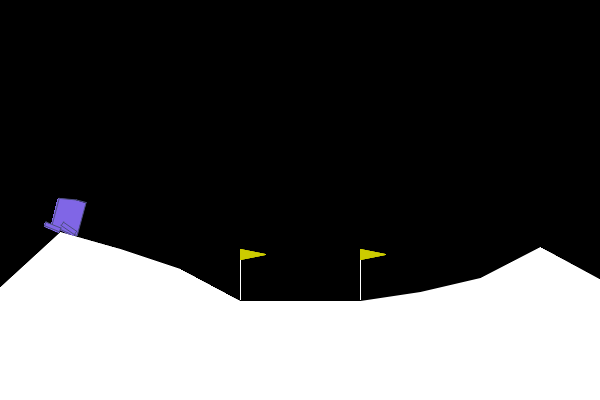lander: (38, 190, 101, 262)
